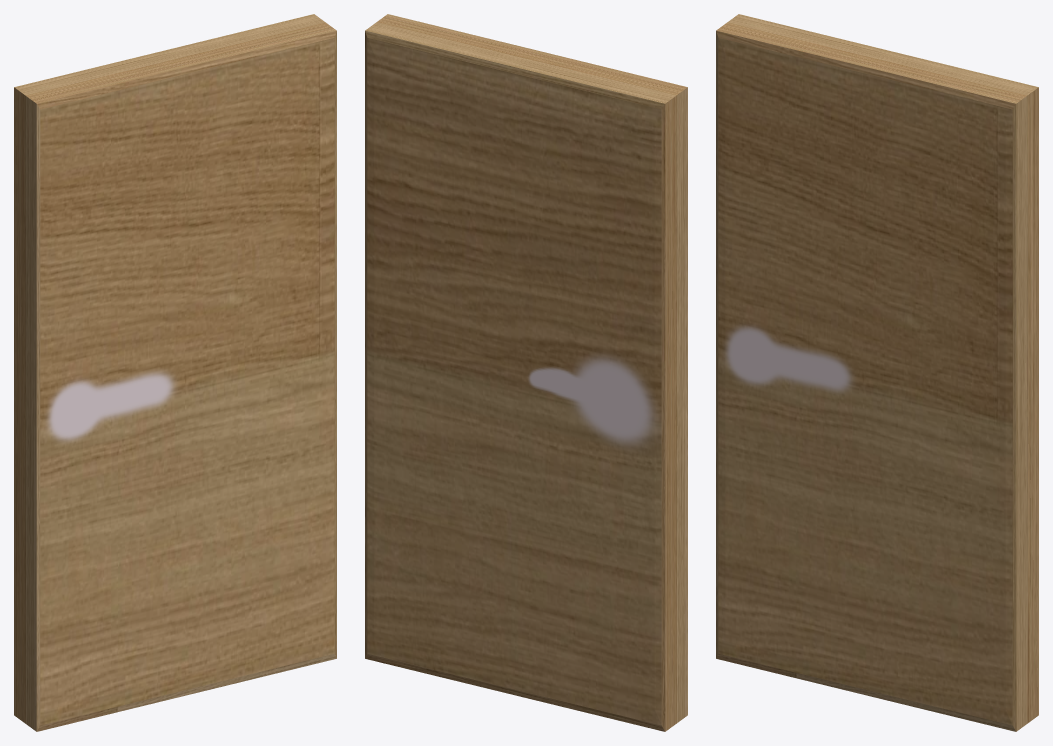
The model's file is porta.glb.
3 renders of one model, left to right at view 1: azimuth 30°, elevation 25°; view 2: azimuth 150°, elevation 25°; view 3: azimuth 330°, elevation 25°, orthographic.
Parts seen in each view (by area): view 1: Cube; view 2: Cube; view 3: Cube.
Boxes of the visible parts, bbox=[...] form: Cube: bbox=[14, 14, 336, 731]; Cube: bbox=[365, 14, 687, 731]; Cube: bbox=[716, 14, 1038, 731].
Bounding box in the file's own units: 2 × 4 × 0.2802.
1 material, 1 textured.
